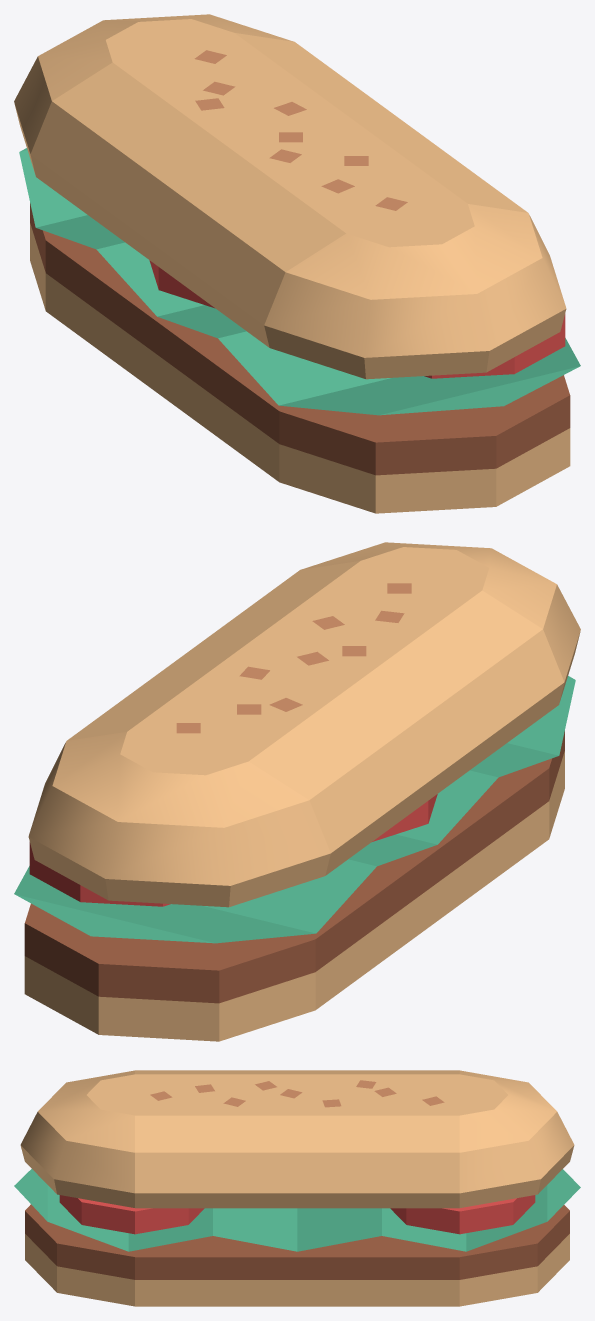
3 renders of one model, top to bottom at view 1: azimuth 30°, elevation 25°; view 2: azimuth 150°, elevation 25°; view 3: azimuth 270°, elevation 25°, orthographic. The views are drawn at different scales.
Visible parts, largest first — view 1: sub, meat, lettuce, tomaties, Group; view 2: sub, meat, lettuce, tomaties, Group; view 3: sub, meat, lettuce, tomaties (×2).
Boxes of the visible parts, x1,y1,x2,y2 form: sub: [14, 14, 570, 513]; meat: [30, 203, 570, 475]; lettuce: [19, 148, 580, 415]; tomaties: [424, 314, 565, 378]; Group: [149, 260, 214, 308]; sub: [24, 542, 580, 1041]; meat: [24, 731, 564, 1003]; lettuce: [14, 676, 575, 943]; tomaties: [29, 842, 170, 906]; Group: [372, 794, 437, 841]; sub: [20, 1070, 574, 1306]; meat: [25, 1204, 569, 1279]; lettuce: [14, 1169, 580, 1251]; tomaties (×2): [59, 1195, 535, 1234].
Bounding box in the file's own units: 2.83 × 2.13 × 6.76.
